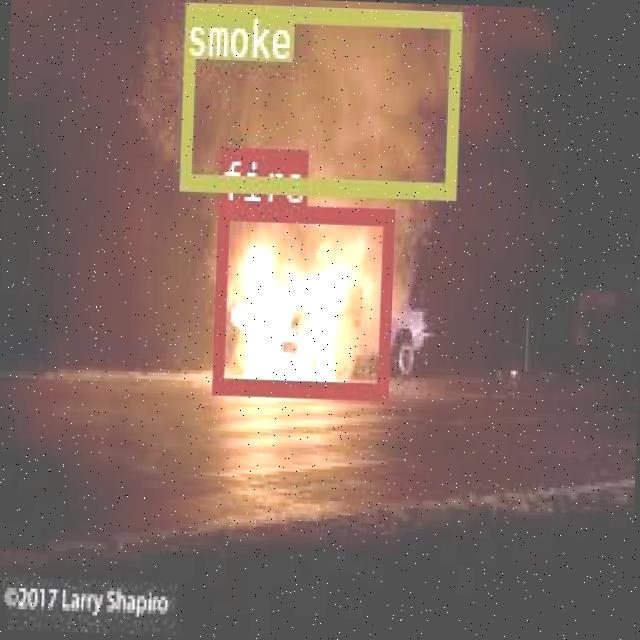fire: (212, 201, 392, 395)
smoke: (178, 1, 460, 198)
